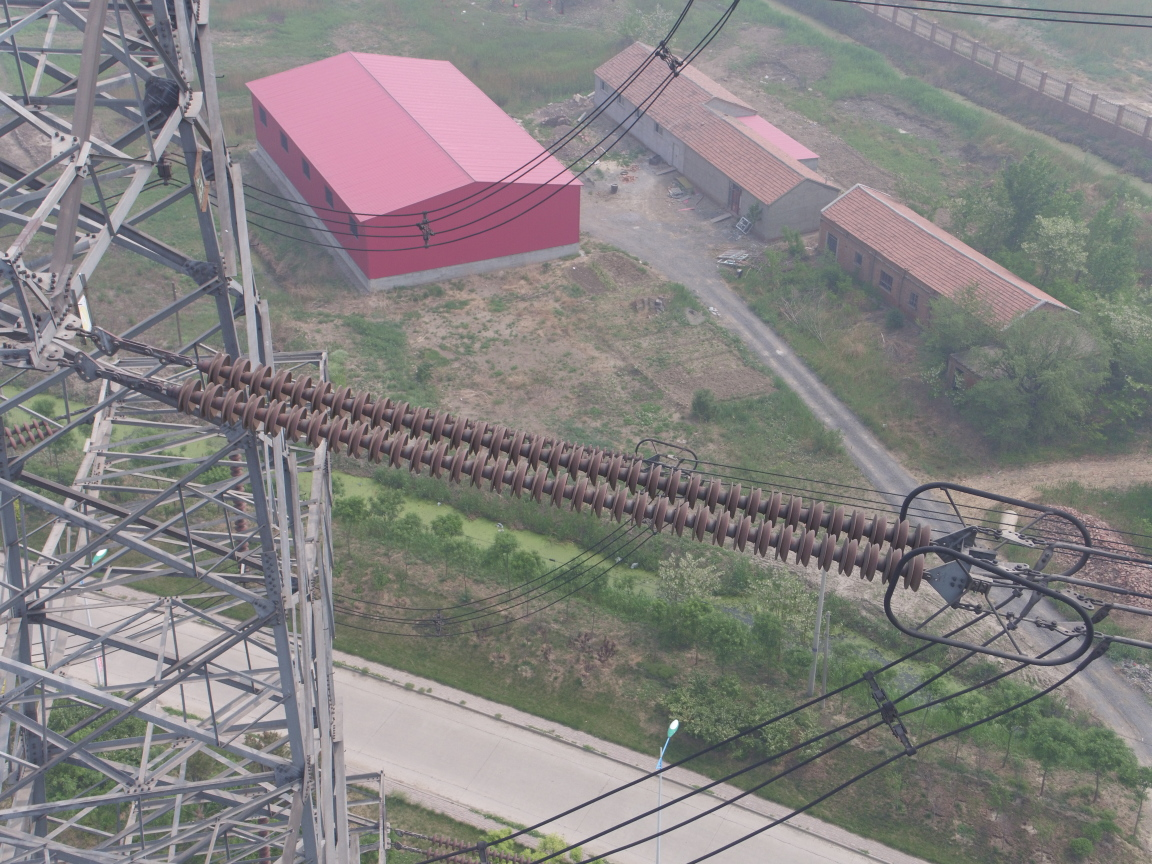insulator: (132, 344, 949, 598)
